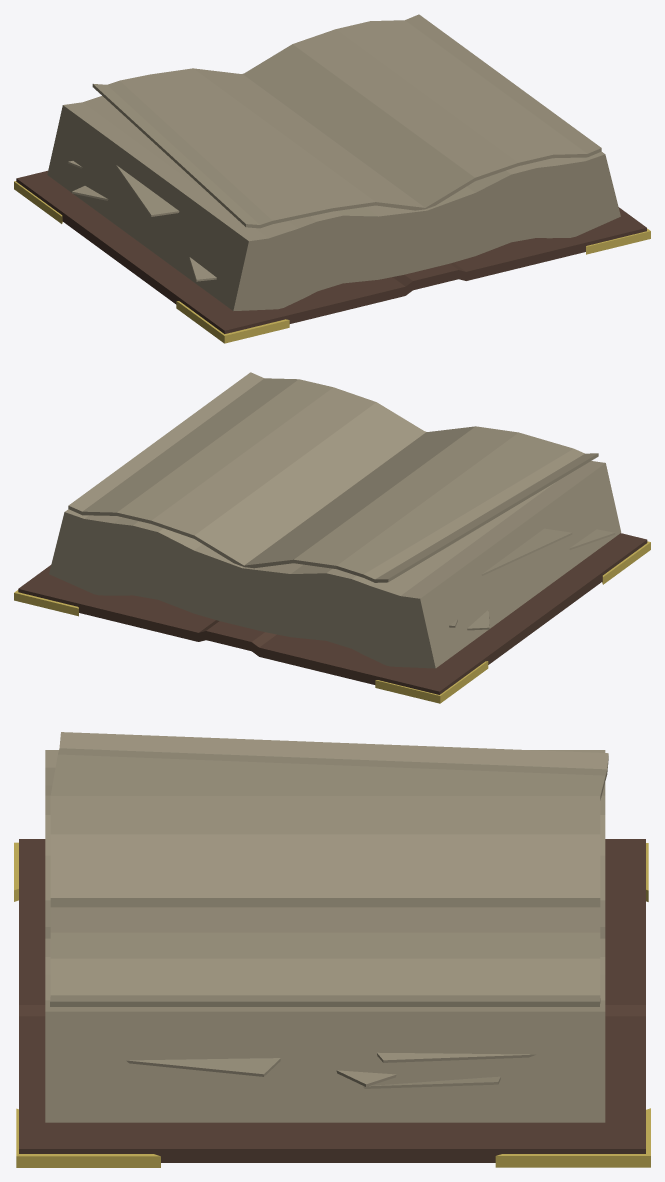
File: book3_open.glb
The picture shows the model from 3 angles, top to bottom: view 1: azimuth 30°, elevation 25°; view 2: azimuth 150°, elevation 25°; view 3: azimuth 270°, elevation 25°; orthographic projection. The views are drawn at different scales.
Visible parts, largest first — view 1: Book3_Open; view 2: Book3_Open; view 3: Book3_Open.
Part boxes in pixels (x1,y1,x2,y2): Book3_Open: [14, 14, 650, 343]; Book3_Open: [14, 372, 650, 703]; Book3_Open: [14, 732, 650, 1167].
Bounding box in the file's own units: 0.8766 × 0.1945 × 0.7521.
